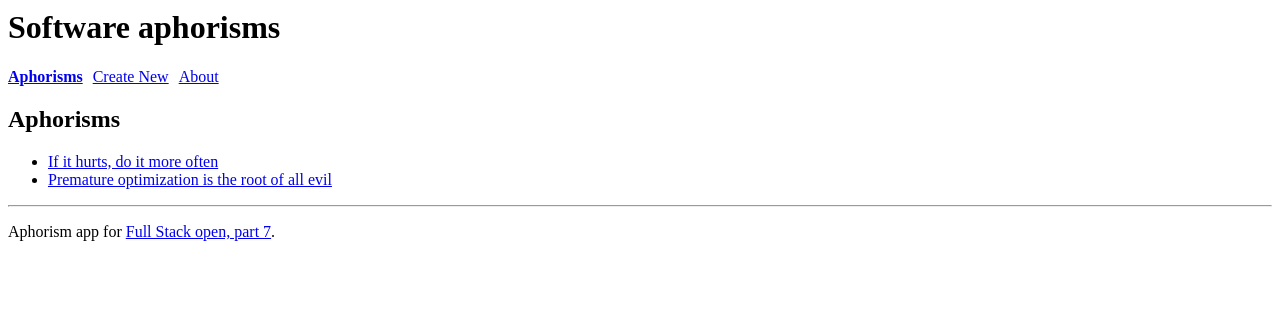
Test: App › about app › clicking header link
Click the link with test id "link-about" at (199, 76), box [179,68,219,85]
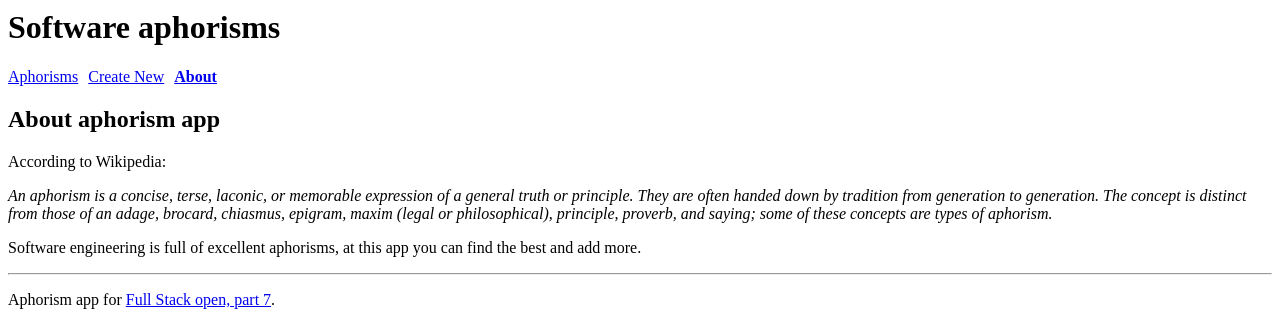
Expected: the element with test id "aphorisms" is gone
Expected: the element with test id "about" is shown, [8,106,1272,257]
